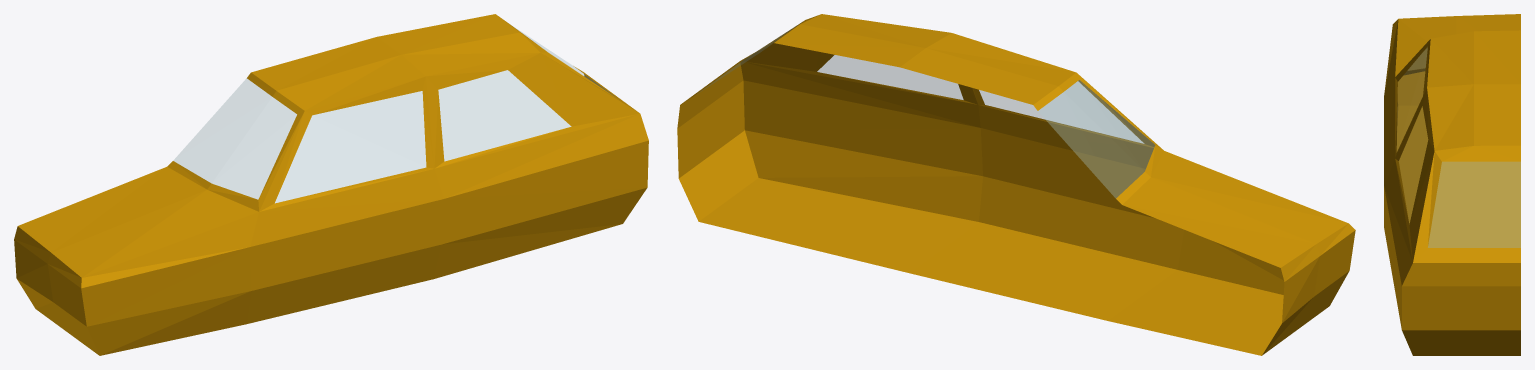
Rendered from car.dae.
The picture shows the model from 3 angles, left to right: view 1: azimuth 30°, elevation 25°; view 2: azimuth 150°, elevation 25°; view 3: azimuth 270°, elevation 25°; orthographic projection. The views are drawn at different scales.
Visible parts, largest first — view 1: vw; view 2: vw; view 3: vw.
Boxes of the visible parts, x1,y1,x2,y2 form: vw: [14, 14, 648, 355]; vw: [677, 14, 1355, 355]; vw: [1384, 14, 1520, 355].
Size of the model in its own units: 6.03 by 1.31 by 1.93.
